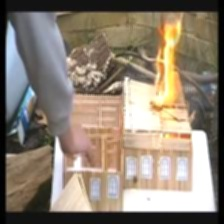fire: (149, 20, 184, 108)
